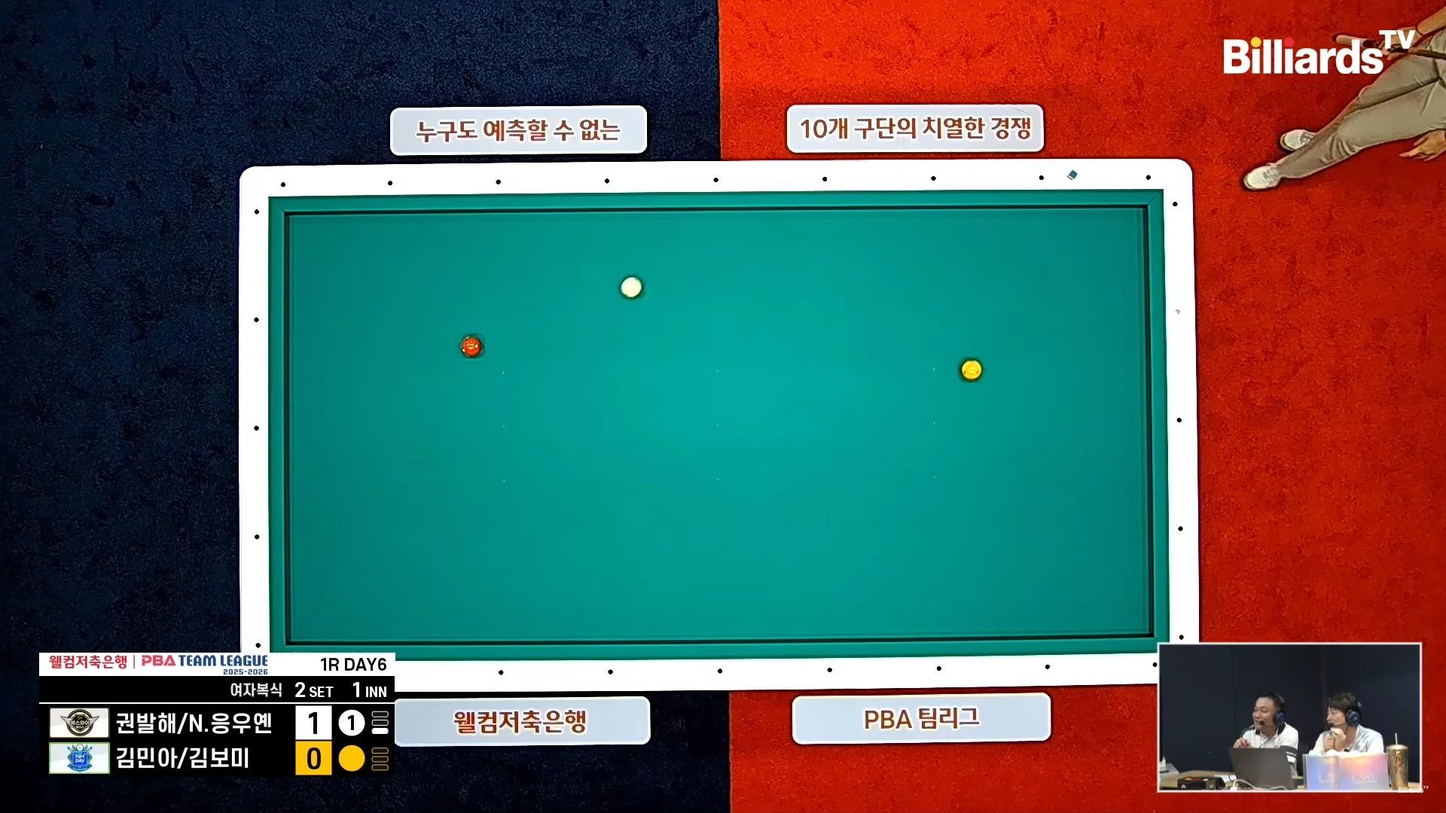billiard-ball-Red: (458, 331, 486, 360)
billiard-ball-Yellow: (958, 357, 986, 383)
billiard-ball-white: (619, 272, 646, 303)
